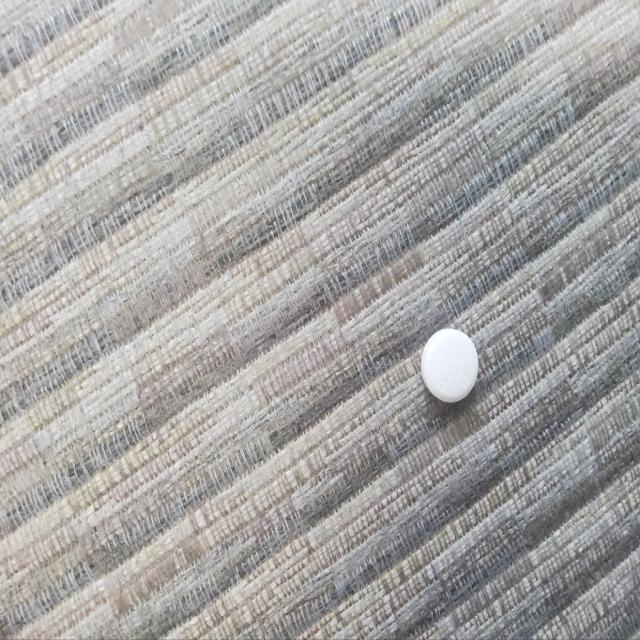-: (418, 312, 487, 412)
